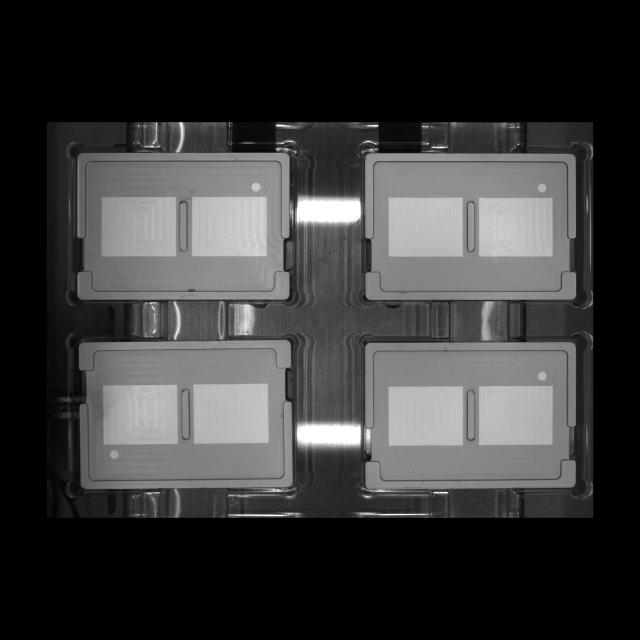product: (356, 138, 590, 309), (65, 140, 303, 308), (355, 330, 591, 499), (68, 332, 303, 500)
